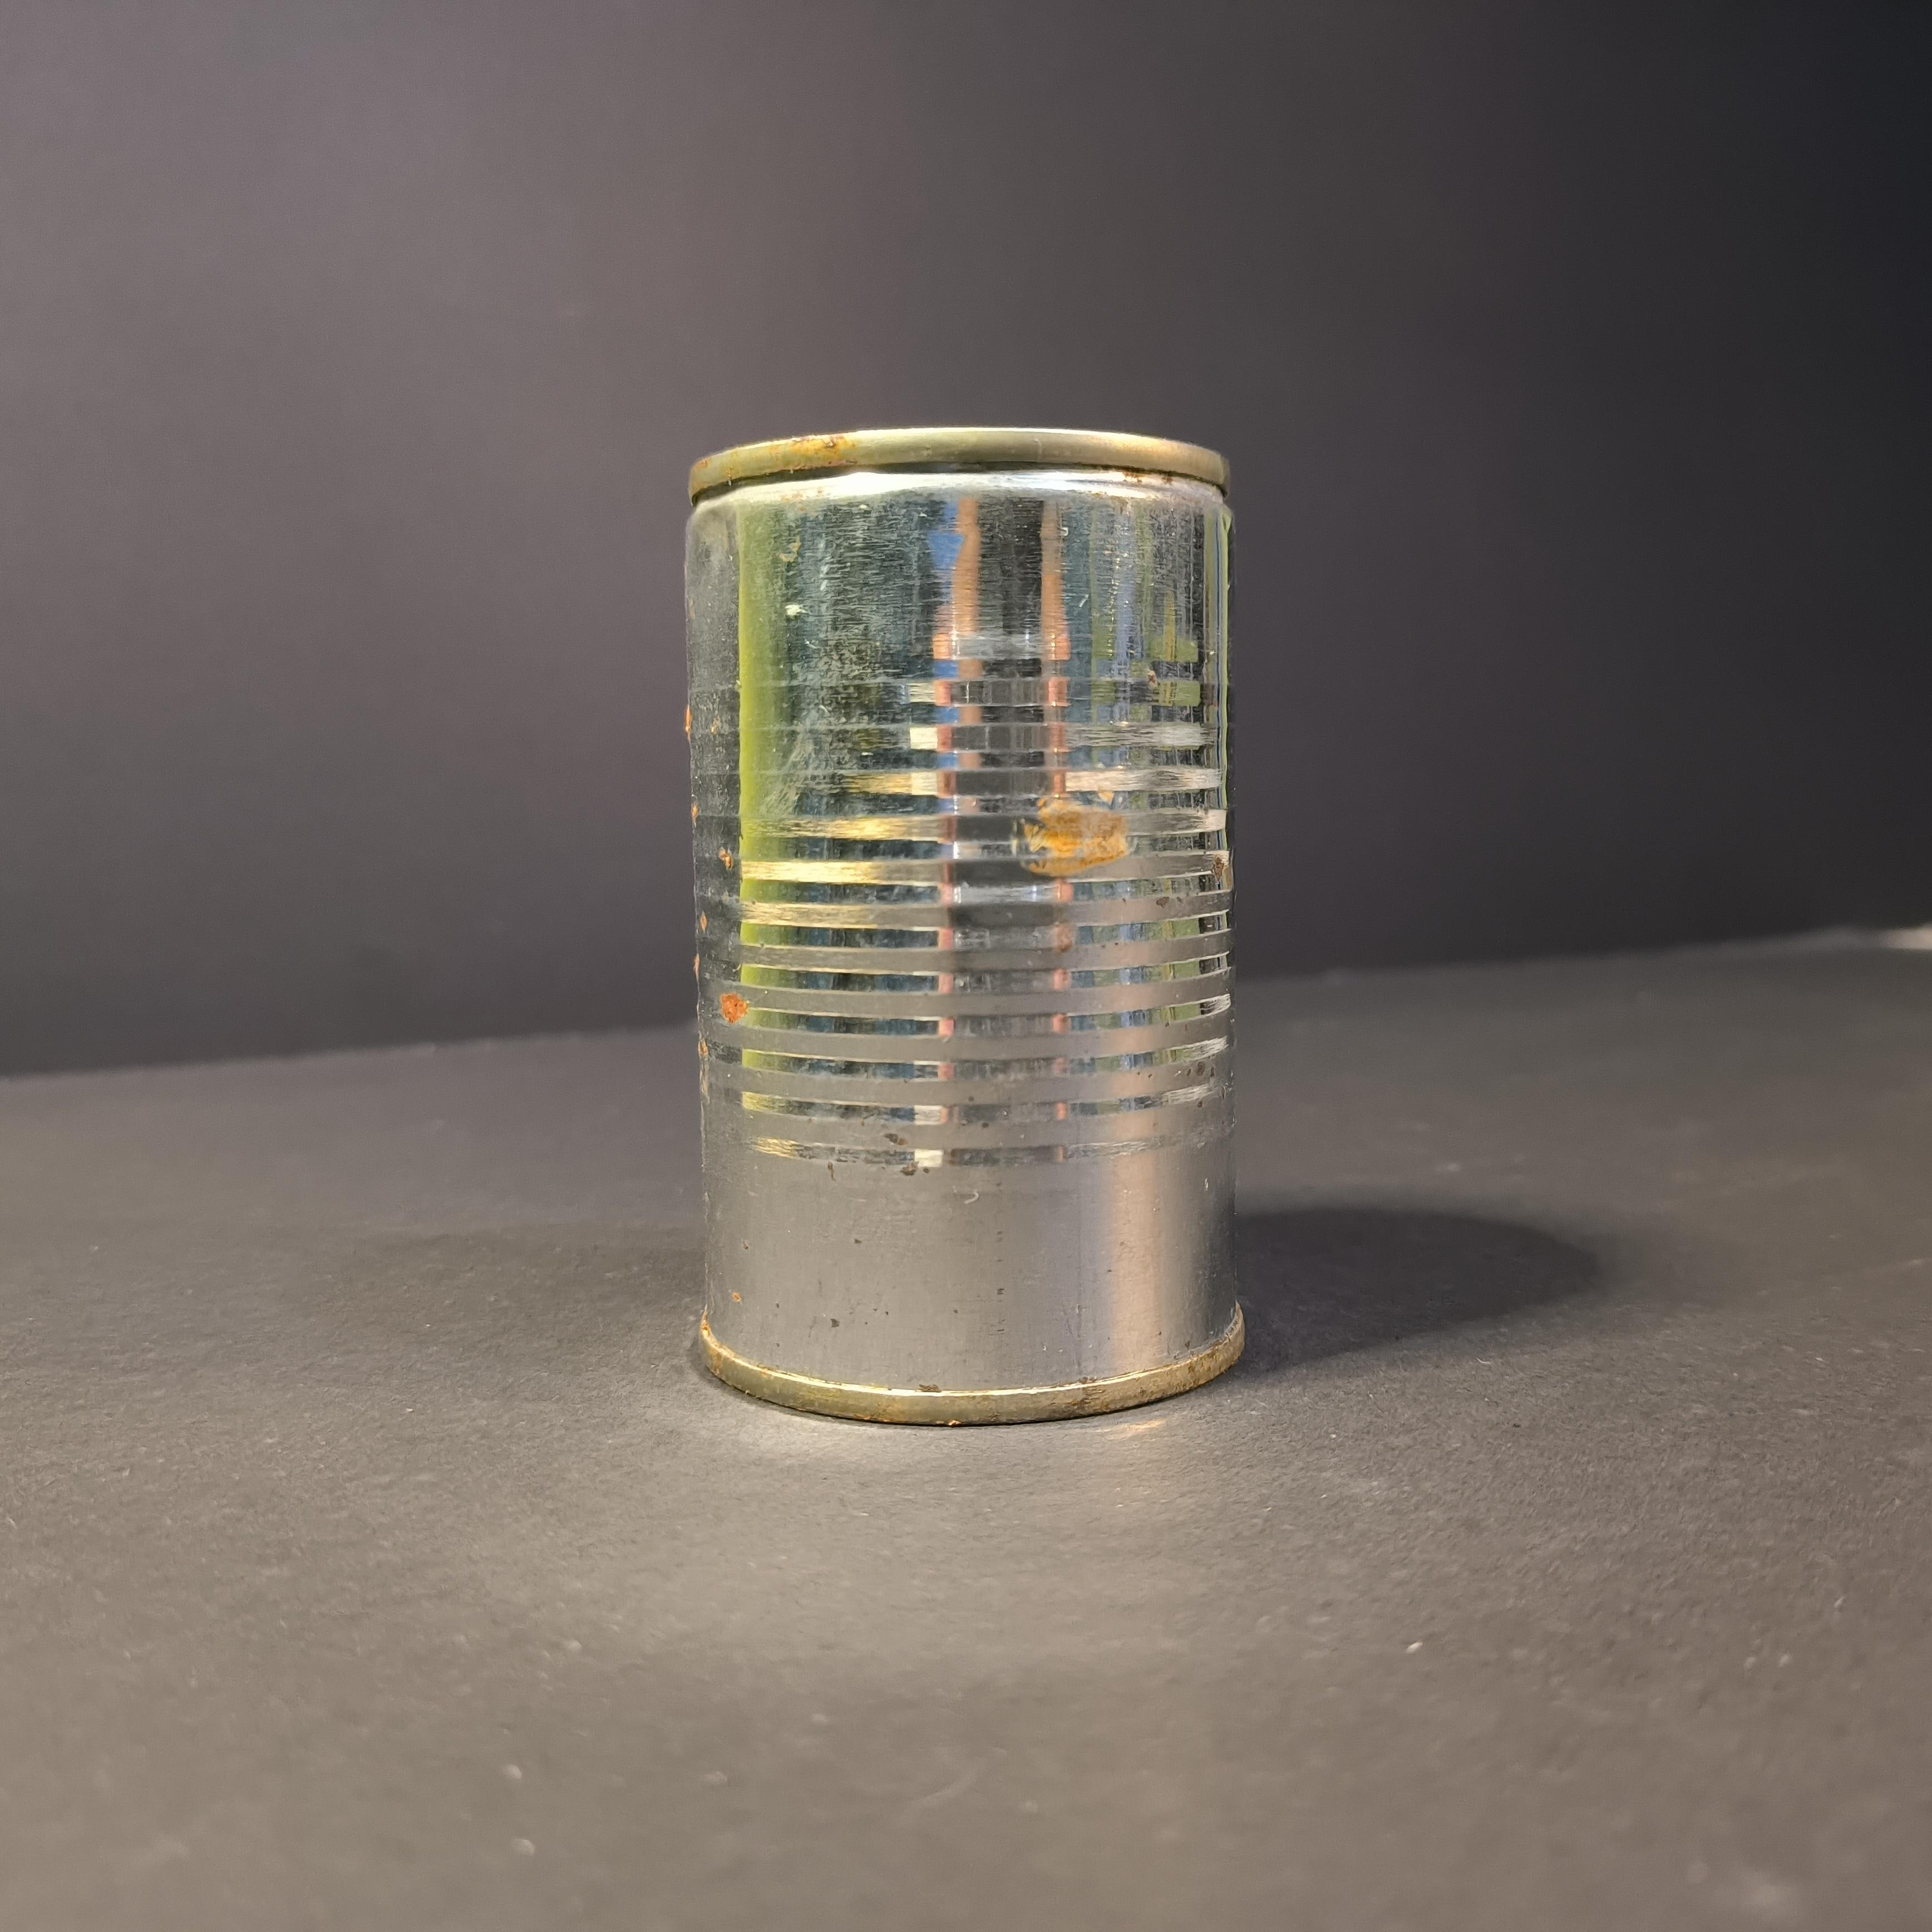Rusted: (679, 403, 1277, 1442)
